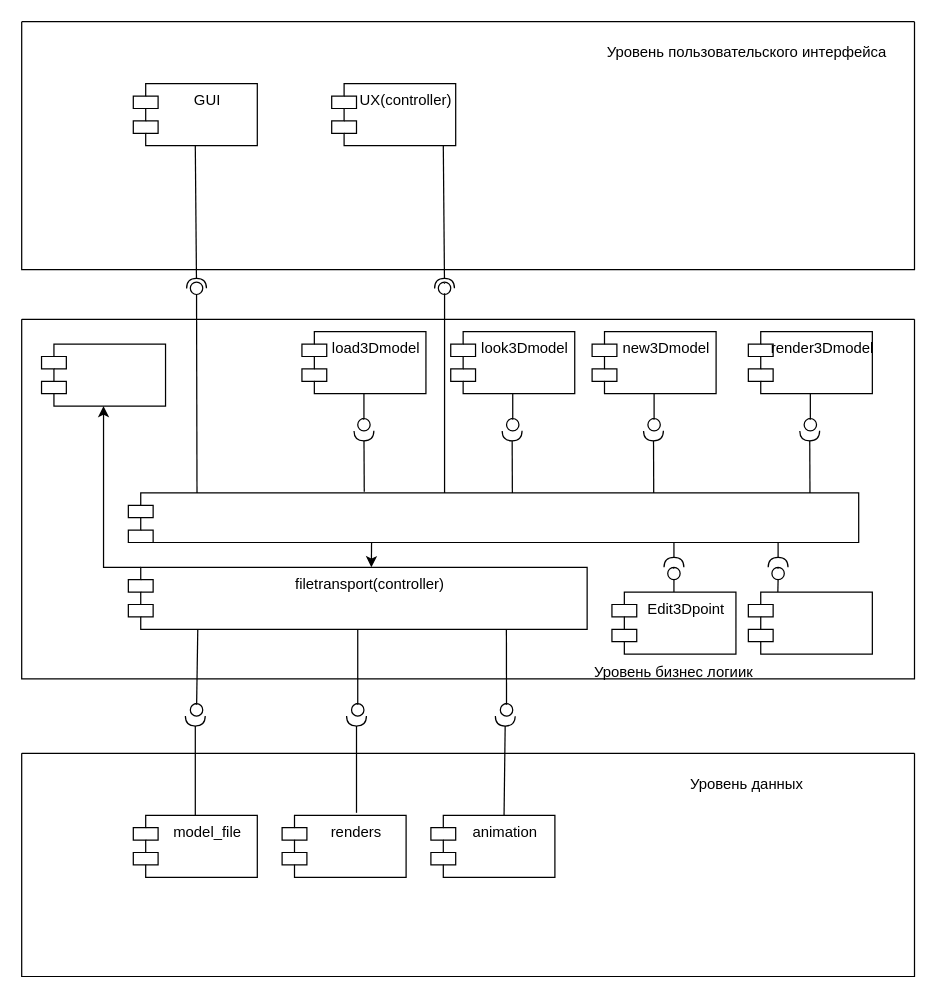
The diagram is 936 pixels wide and 998 high, and some of its shapes have lost their labels. The shapes that lost their labels are listed below. From the top down, each one's centre as x and y in pixels, then its label:
(103,374): print(controller)
(493,517): Appcontroller
(809,622): EditTexture
